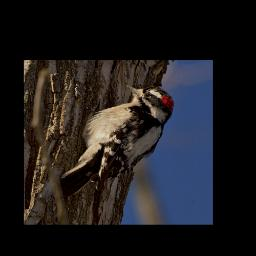Woodpecker: (60, 84, 175, 199)
